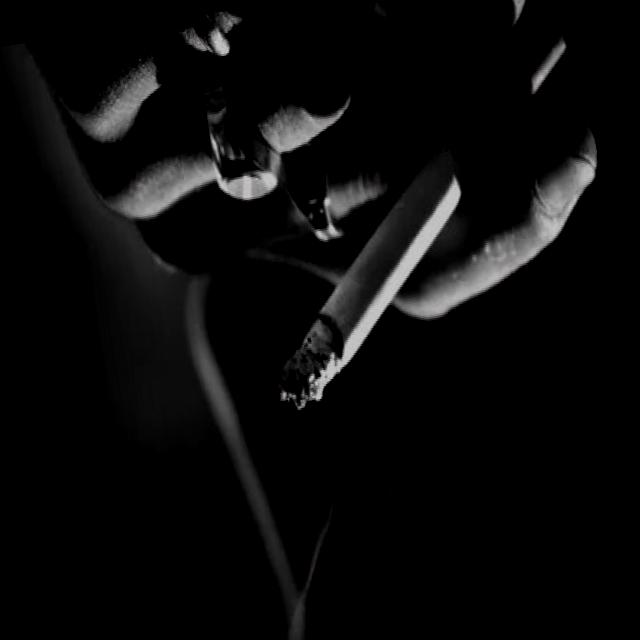cigarette: (221, 0, 628, 427)
